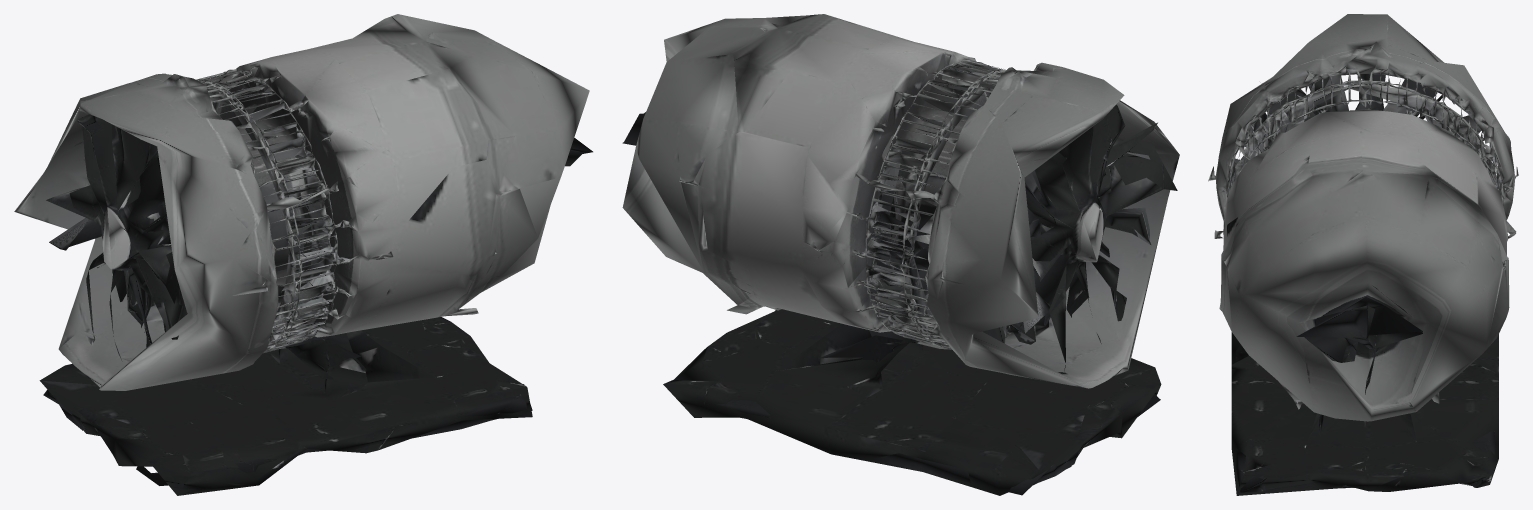
The model's file is co_engine.glb.
The picture shows the model from 3 angles, left to right: view 1: azimuth 30°, elevation 25°; view 2: azimuth 150°, elevation 25°; view 3: azimuth 270°, elevation 25°; orthographic projection. The views are drawn at different scales.
Size of the model in its own units: 1.89 by 1.36 by 1.17.
Materials: 1 (1 with a texture image).
